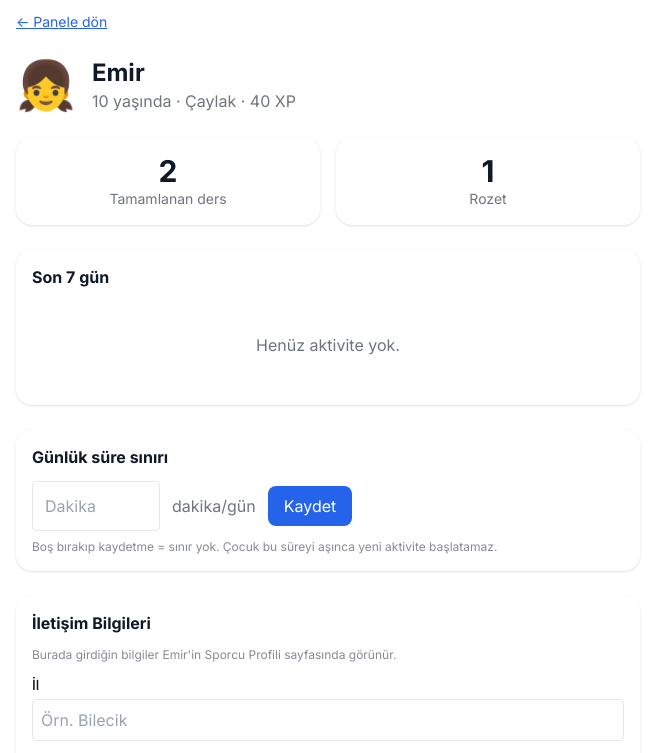
Test: Veli — çocuk detay sayfası: İletişim Bilgileri formu (madde 2026-09-07, GRUP C) › il + baba telefonu girilip kaydedilince sadece dolu alanlar PATCH edilir
Expected: the heading "İletişim Bilgileri" is shown, [32,613,151,633]
Type "Bilecik" into the field labelled "İl" at (328, 720), box [32,699,624,741]
(page scrolled)
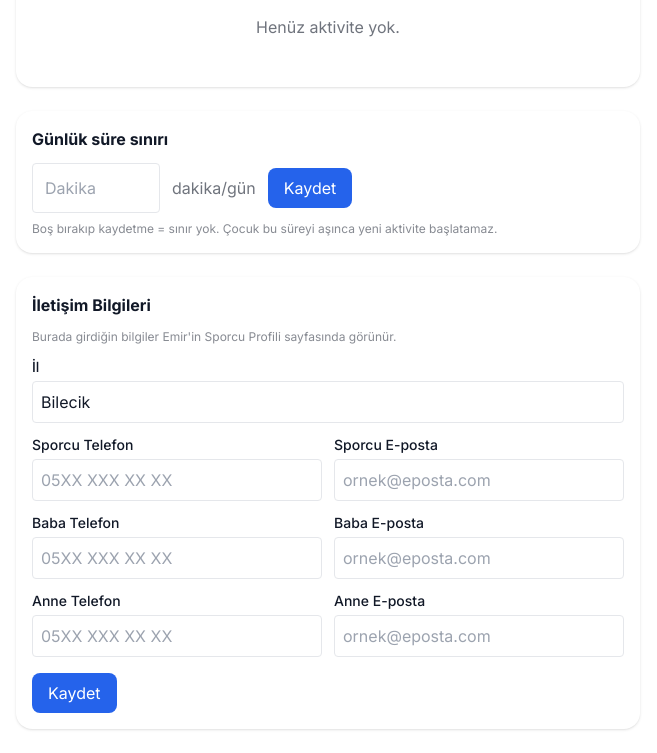
Type "05551112233" into the field labelled "Baba Telefon" at (177, 558), box [32,537,322,579]
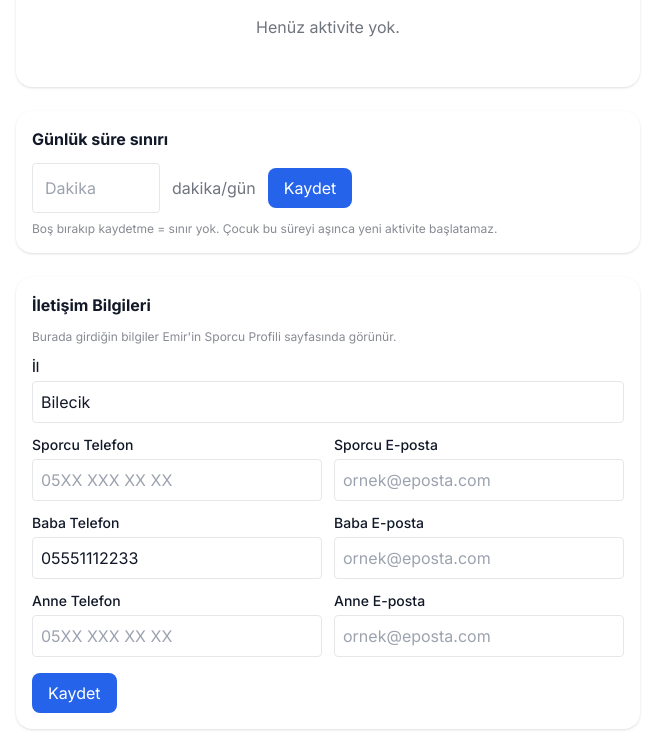
Click the 2nd button "Kaydet" at (74, 693), box [32,673,116,713]
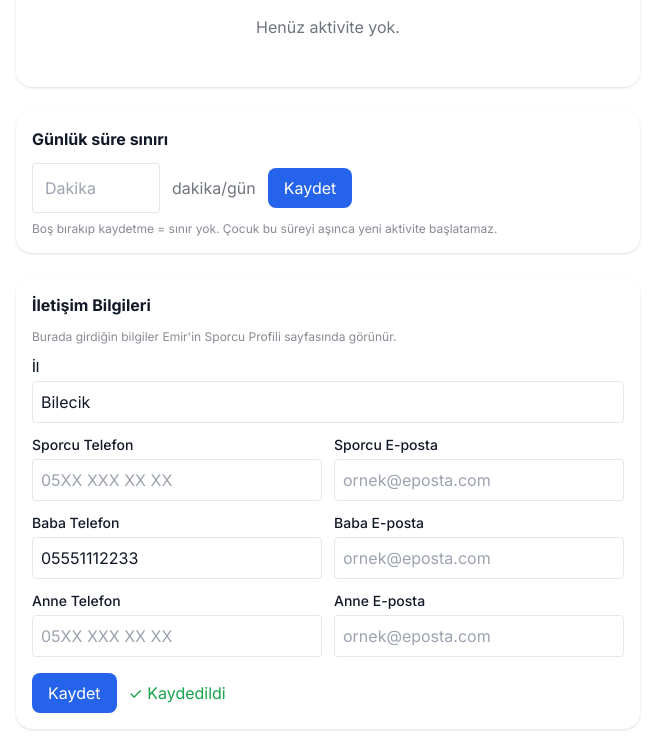
Expected: the text "✓ Kaydedildi" is shown, [128,681,226,705]
